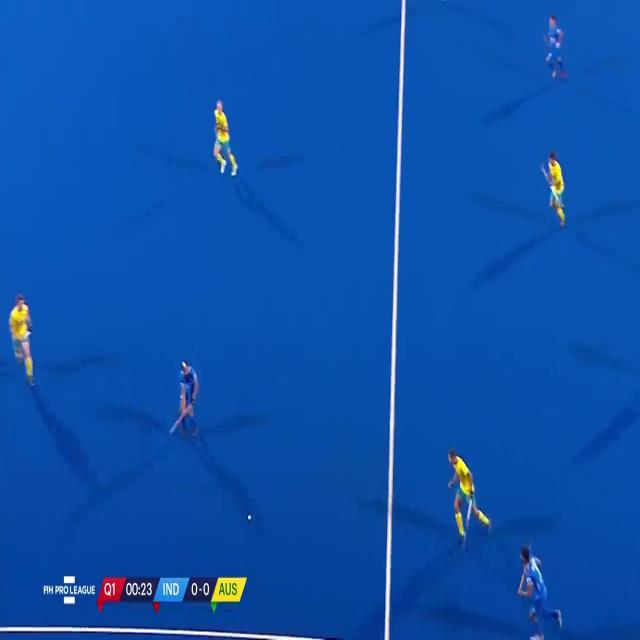ball: (245, 510, 253, 526)
